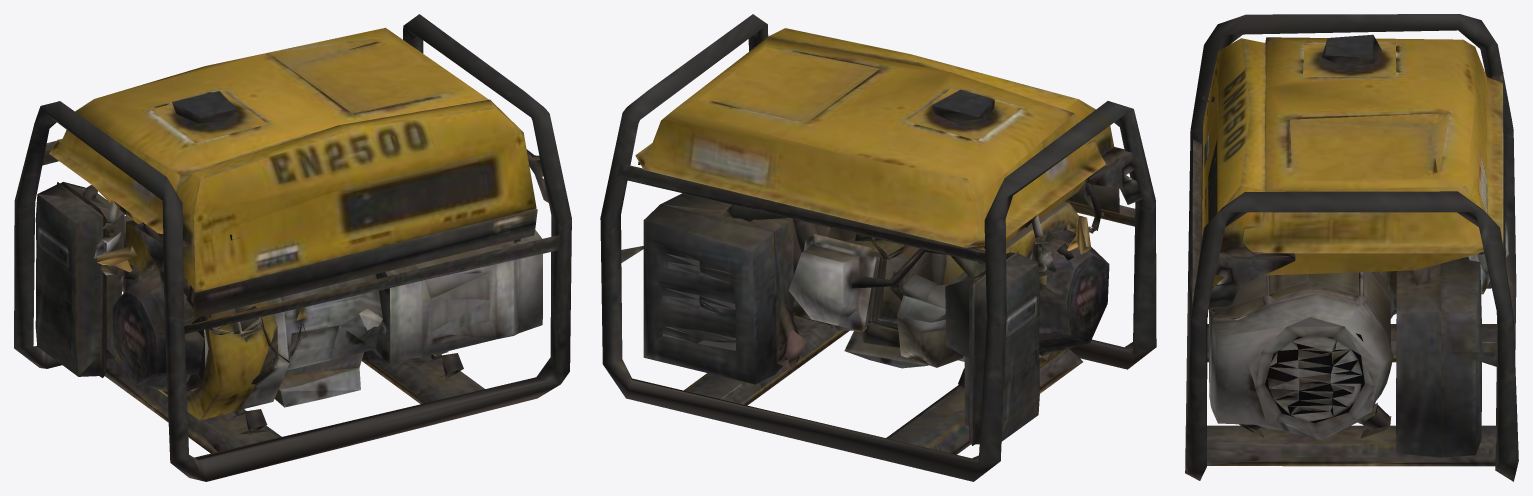
File: portable_generator.glb
3 views of the same model, side by side, from view 1: azimuth 30°, elevation 25°; view 2: azimuth 150°, elevation 25°; view 3: azimuth 270°, elevation 25° (orthographic).
Visible parts, largest first — view 1: portable_generator; view 2: portable_generator; view 3: portable_generator.
Boxes of the visible parts, x1=… form: portable_generator: x1=14, y1=14, x2=571, y2=481; portable_generator: x1=600, y1=14, x2=1156, y2=481; portable_generator: x1=1185, y1=14, x2=1518, y2=481.
Bounding box in the file's own units: 0.8111 × 0.5772 × 0.5677.
Materials: 2 (2 with a texture image).
